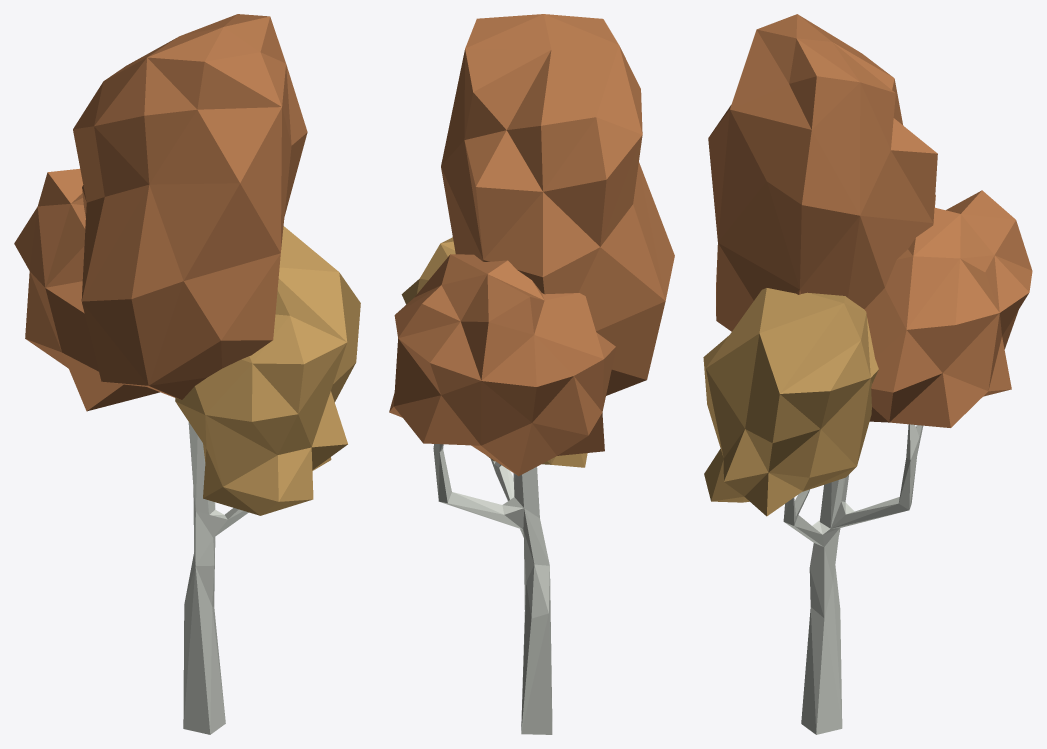
File: BirchTree_Autumn_3.lod2.glb
3 renders of one model, left to right at view 1: azimuth 30°, elevation 25°; view 2: azimuth 150°, elevation 25°; view 3: azimuth 270°, elevation 25°, orthographic. The views are drawn at different scales.
Parts seen in each view (by area): view 1: BirchTree_Autumn_3; view 2: BirchTree_Autumn_3; view 3: BirchTree_Autumn_3.
Boxes of the visible parts, <box> form: BirchTree_Autumn_3: <box>14,14,360,734</box>; BirchTree_Autumn_3: <box>389,14,674,734</box>; BirchTree_Autumn_3: <box>703,14,1032,734</box>.
Bounding box in the file's own units: 1.58 × 4.09 × 1.76.
